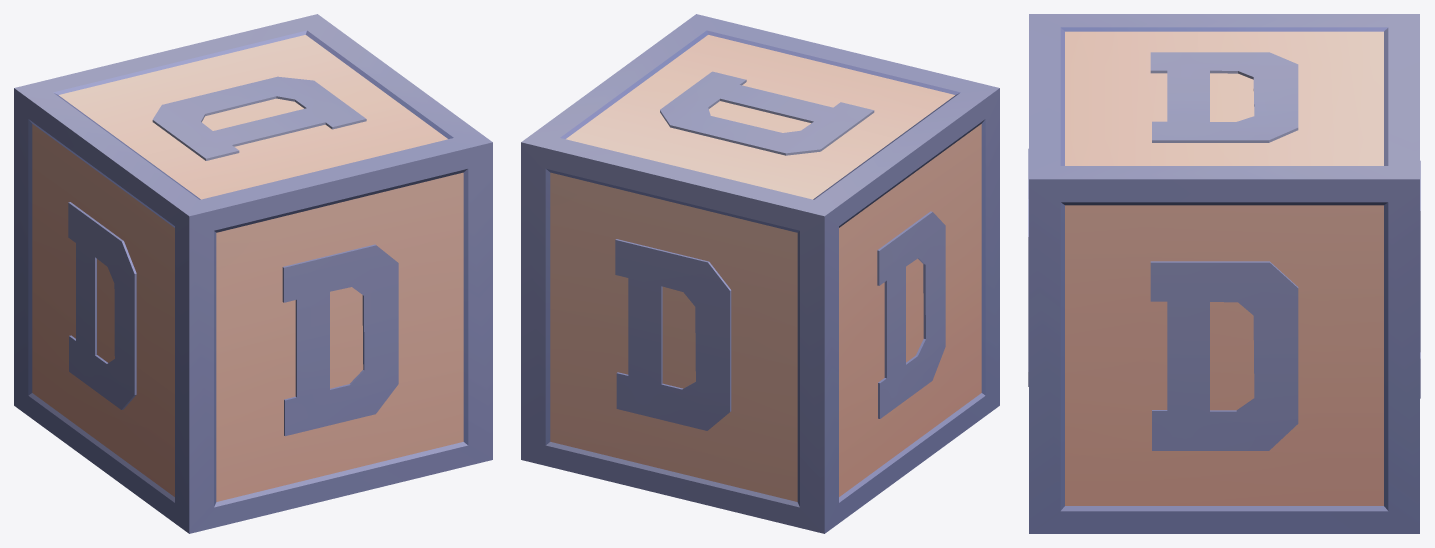
The model's file is Doll_OB_Blocks_004.FBX.
3 renders of one model, left to right at view 1: azimuth 30°, elevation 25°; view 2: azimuth 150°, elevation 25°; view 3: azimuth 270°, elevation 25°, orthographic. The views are drawn at different scales.
Visible parts, largest first — view 1: Doll_OB_Blocks_004; view 2: Doll_OB_Blocks_004; view 3: Doll_OB_Blocks_004.
Part boxes in pixels (<box>): Doll_OB_Blocks_004: <box>14,14,492,533</box>; Doll_OB_Blocks_004: <box>521,14,999,533</box>; Doll_OB_Blocks_004: <box>1028,14,1420,533</box>.
Size of the model in its own units: 20.7 by 20.68 by 20.7.
